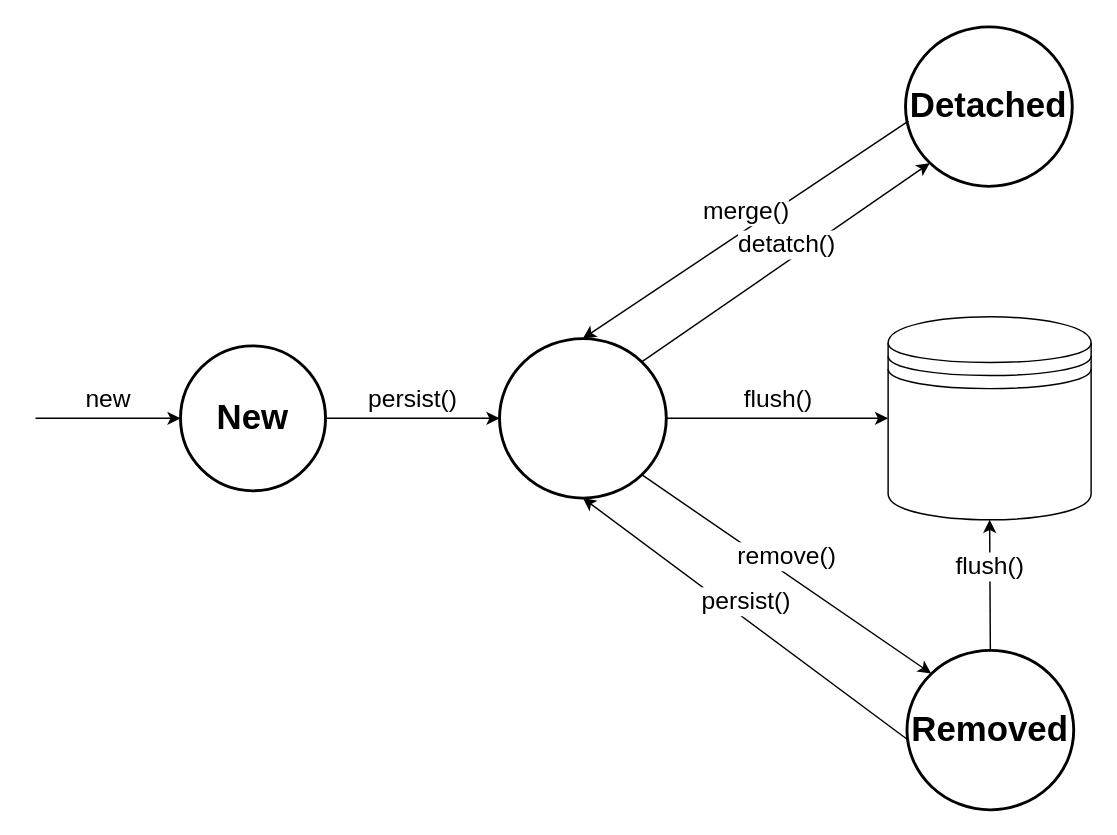
The diagram is 1117 pixels wide and 835 high, and some of its shapes have lost their labels. Each missing label, with the box of its shape:
Database: (887, 315, 1091, 520)
Managed: (497, 336, 667, 499)
